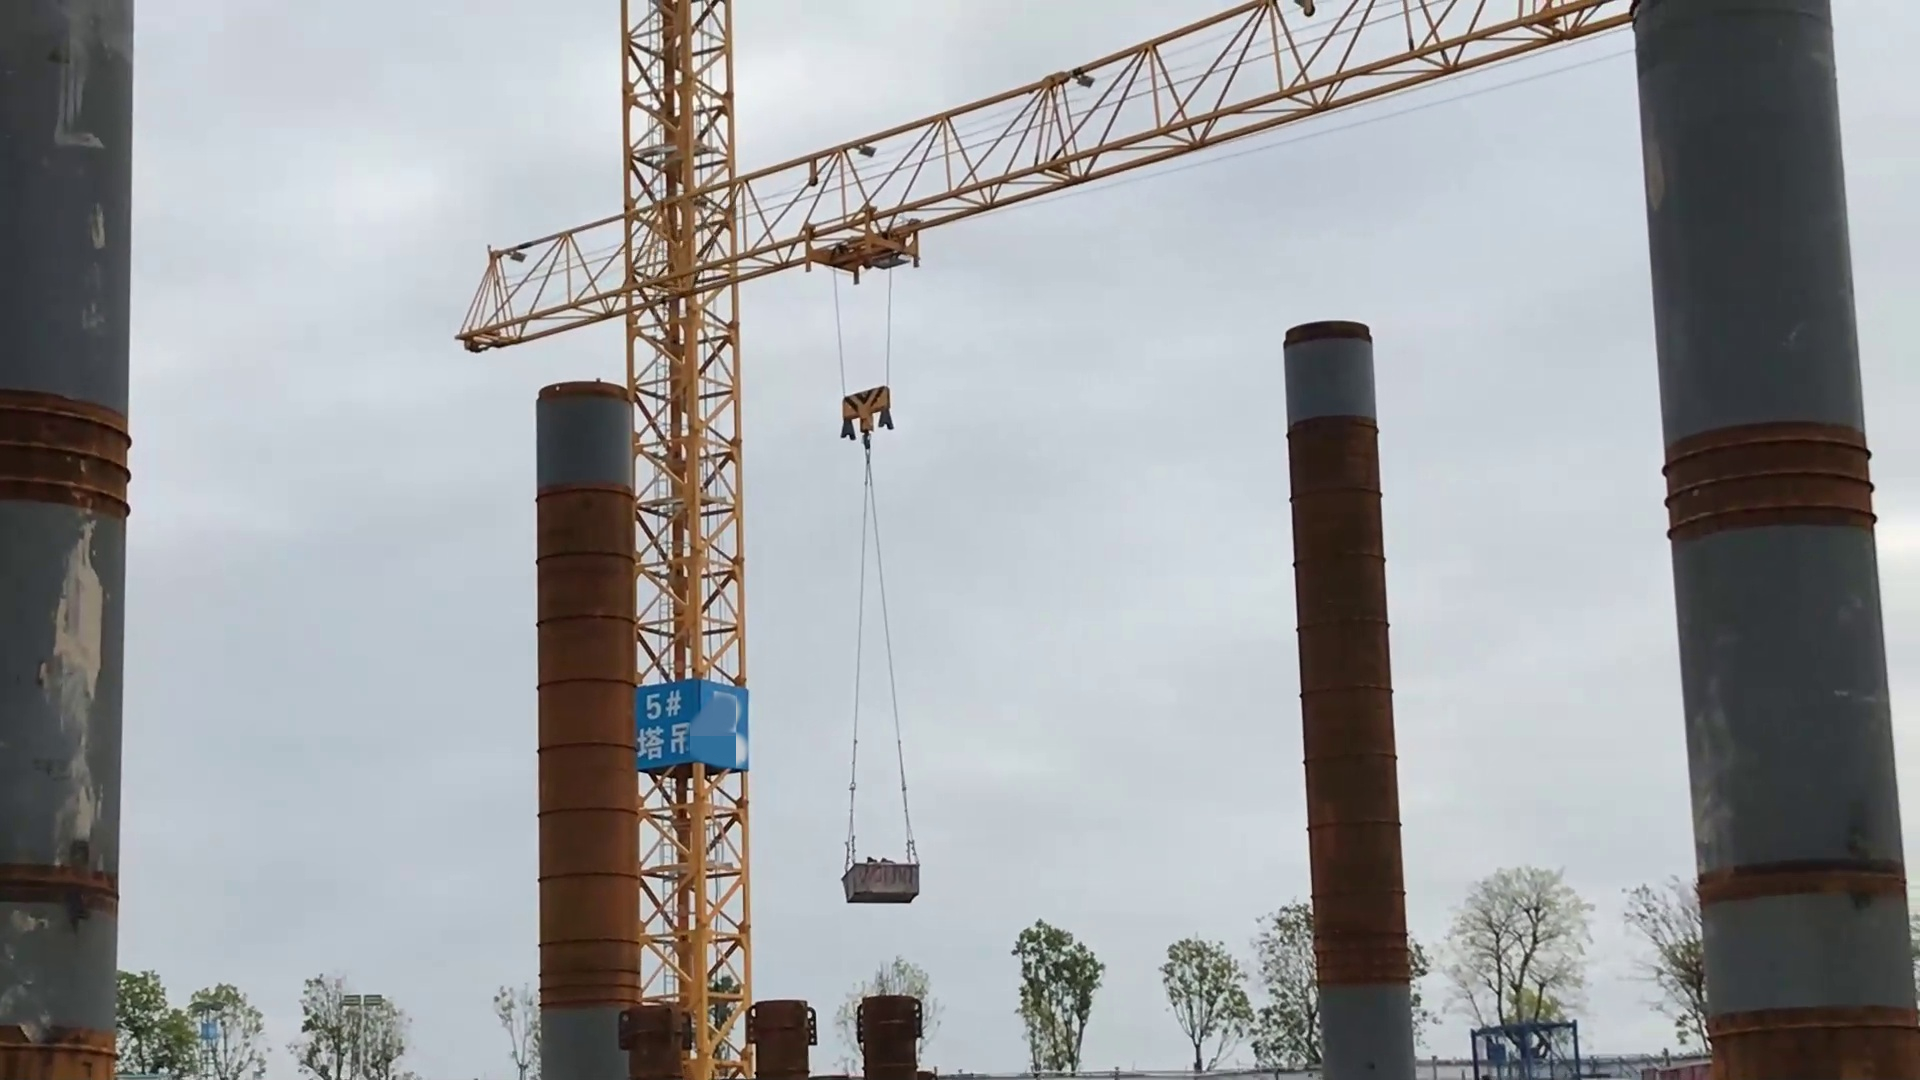hook: (837, 386, 894, 438)
hopper: (841, 841, 936, 907)
